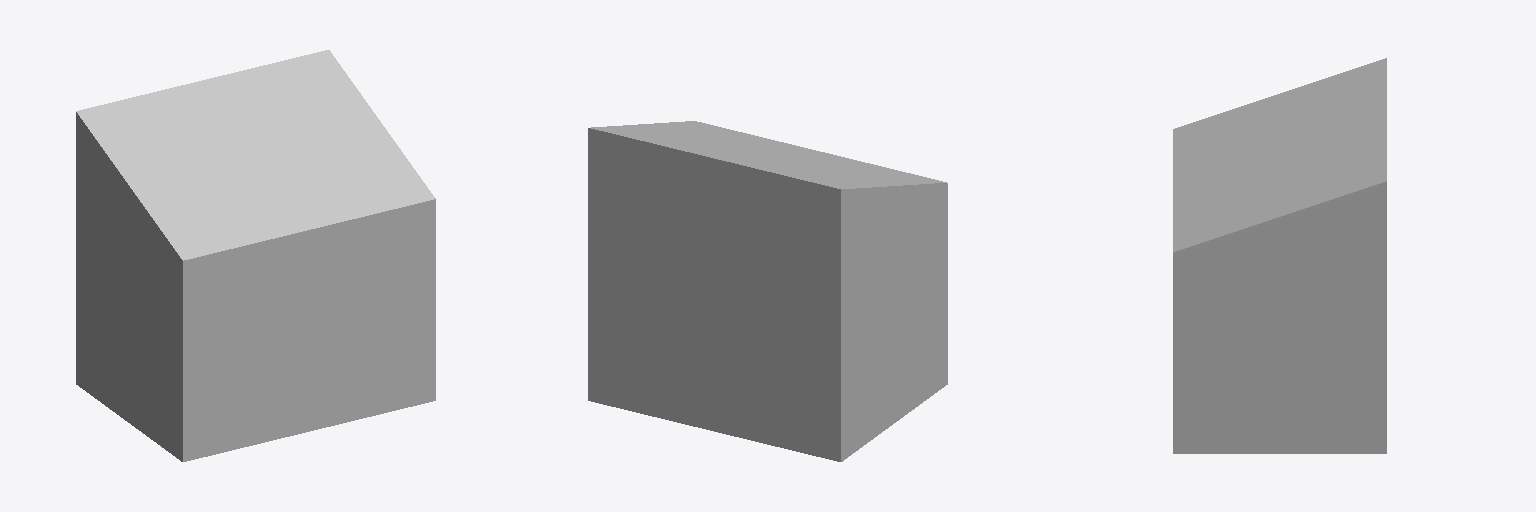
The model's file is Lettuce_box.obj.
3 renders of one model, left to right at view 1: azimuth 30°, elevation 25°; view 2: azimuth 150°, elevation 25°; view 3: azimuth 270°, elevation 25°, orthographic.
Visible parts, largest first — view 1: Cube; view 2: Cube; view 3: Cube.
Boxes of the visible parts, x1=… form: Cube: x1=76, y1=50, x2=435, y2=461; Cube: x1=588, y1=121, x2=947, y2=461; Cube: x1=1173, y1=58, x2=1386, y2=453.
Bounding box in the file's own units: 2.73 × 2.82 × 2.